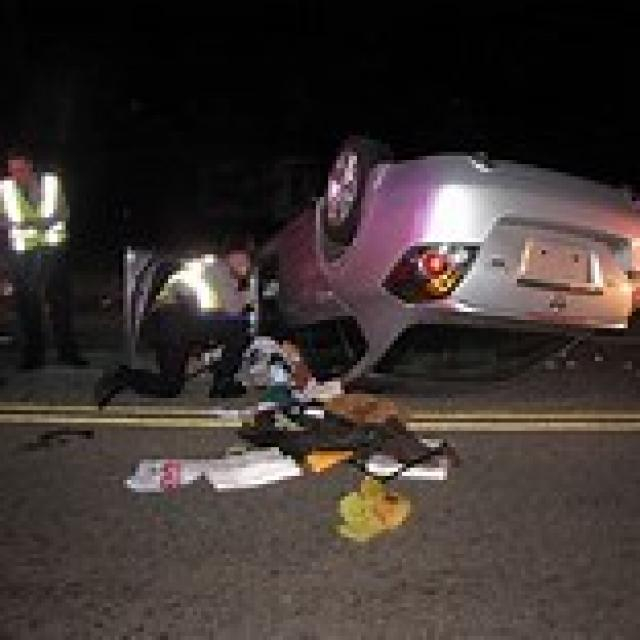Accident: (144, 129, 575, 488)
